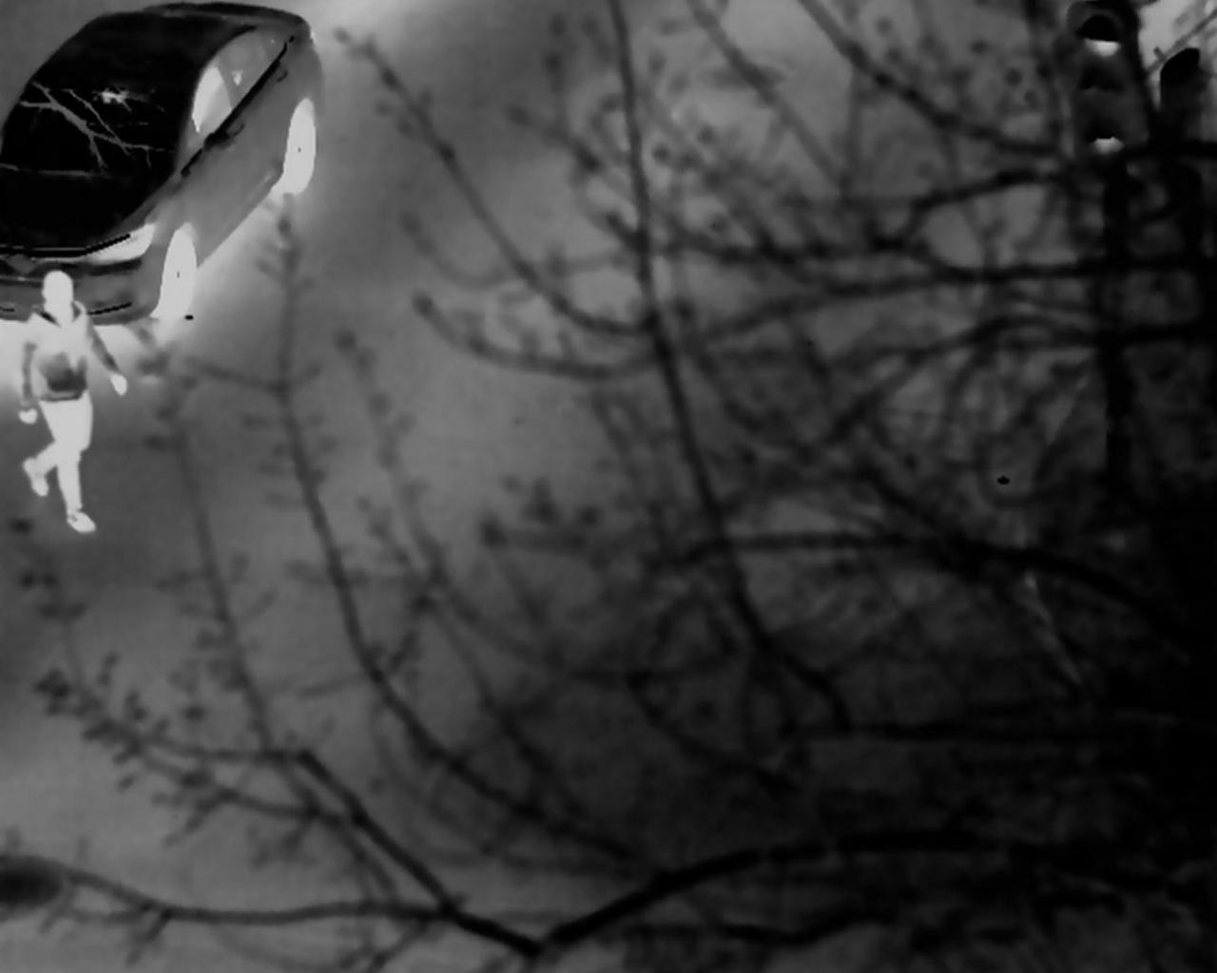person: (18, 261, 133, 554)
